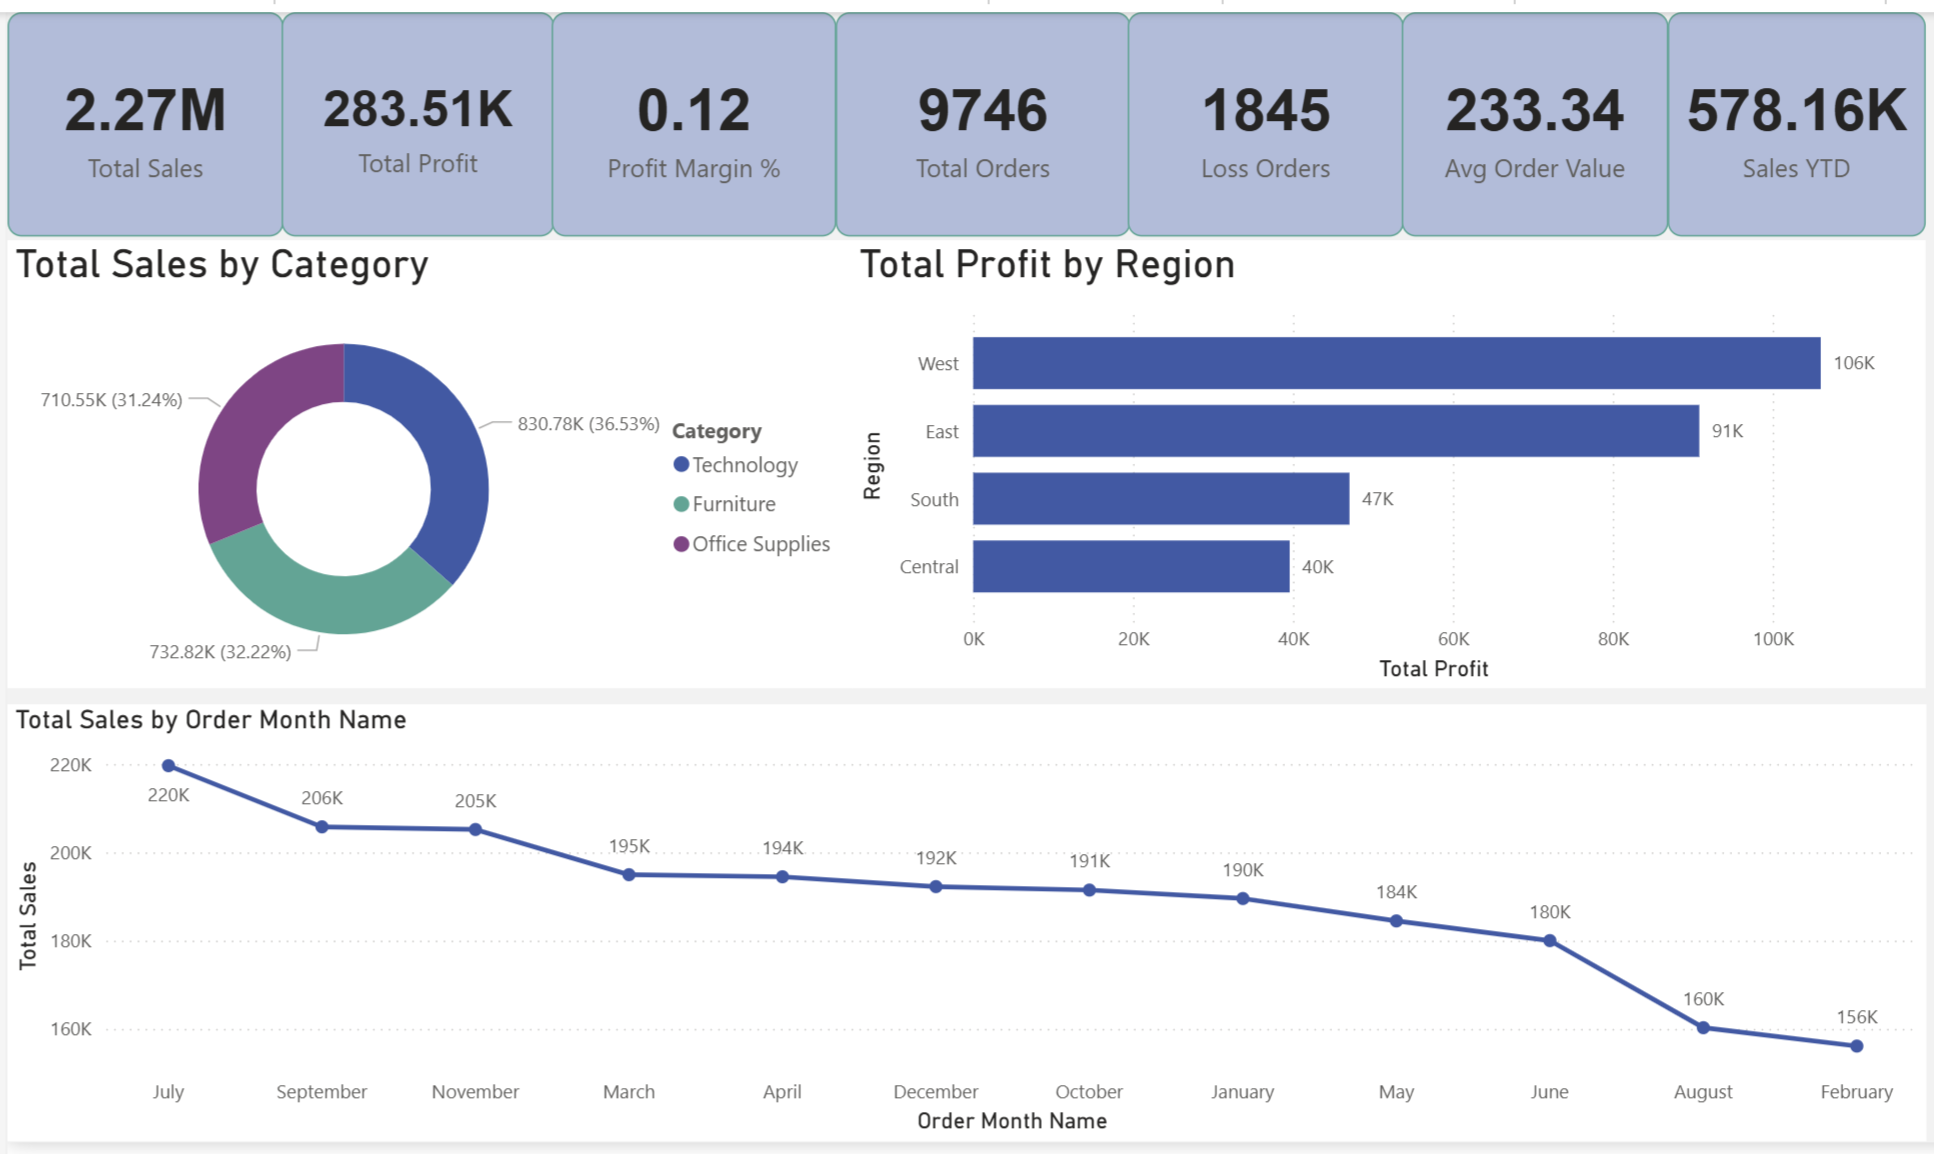

This screenshot's page, from the dashboard's own definition file:
{"tool":"powerbi","page":{"name":"Executive Summary","canvas":[1280,720],"ordinal":0},"visuals":[{"type":"card","fields":{"Values":["SampleSuperstore.Total Sales"]},"box":[0,0,176,143],"z":0},{"type":"card","fields":{"Values":["SampleSuperstore.Total Profit"]},"box":[174.6,0,174,143],"z":1000},{"type":"card","fields":{"Values":["SampleSuperstore.Profit Margin %"]},"box":[347.2,0,181.4,143],"z":2000},{"type":"card","fields":{"Values":["SampleSuperstore.Total Orders"]},"box":[527.3,0,188,143],"z":3000},{"type":"card","fields":{"Values":["SampleSuperstore.Loss Orders"]},"box":[713.9,0,176,143],"z":4000},{"type":"card","fields":{"Values":["SampleSuperstore.Avg Order Value"]},"box":[888.5,0,170,143],"z":5000},{"type":"donutChart","fields":{"Category":["SampleSuperstore.Category"],"Y":["SampleSuperstore.Total Sales"]},"box":[0,145.7,538.6,285.7],"z":6000},{"type":"clusteredBarChart","fields":{"Category":["SampleSuperstore.Region"],"Y":["SampleSuperstore.Total Profit"]},"box":[538.6,145.7,684.3,285.7],"z":7000},{"type":"lineChart","fields":{"Category":["SampleSuperstore.Order Month Name"],"Y":["SampleSuperstore.Total Sales"]},"box":[0,441.4,1222.9,278.6],"z":8000},{"type":"card","fields":{"Values":["SampleSuperstore.Sales YTD"]},"box":[1058.6,0,164.3,143],"z":9000}]}

Visuals, with their boxes on the page's 1280x720 design canvas (x1, y1, x2, y2). These are canvas units, not pixel positions in the 1934x1154 screenshot, which may show the page scaled, cropped or inside an application window:
card - SampleSuperstore.Total Sales: {"x1": 0, "y1": 0, "x2": 176, "y2": 143}
card - SampleSuperstore.Total Profit: {"x1": 175, "y1": 0, "x2": 349, "y2": 143}
card - SampleSuperstore.Profit Margin %: {"x1": 347, "y1": 0, "x2": 529, "y2": 143}
card - SampleSuperstore.Total Orders: {"x1": 527, "y1": 0, "x2": 715, "y2": 143}
card - SampleSuperstore.Loss Orders: {"x1": 714, "y1": 0, "x2": 890, "y2": 143}
card - SampleSuperstore.Avg Order Value: {"x1": 888, "y1": 0, "x2": 1058, "y2": 143}
donutChart - SampleSuperstore.Category x SampleSuperstore.Total Sales: {"x1": 0, "y1": 146, "x2": 539, "y2": 431}
clusteredBarChart - SampleSuperstore.Region x SampleSuperstore.Total Profit: {"x1": 539, "y1": 146, "x2": 1223, "y2": 431}
lineChart - SampleSuperstore.Order Month Name x SampleSuperstore.Total Sales: {"x1": 0, "y1": 441, "x2": 1223, "y2": 720}
card - SampleSuperstore.Sales YTD: {"x1": 1059, "y1": 0, "x2": 1223, "y2": 143}
